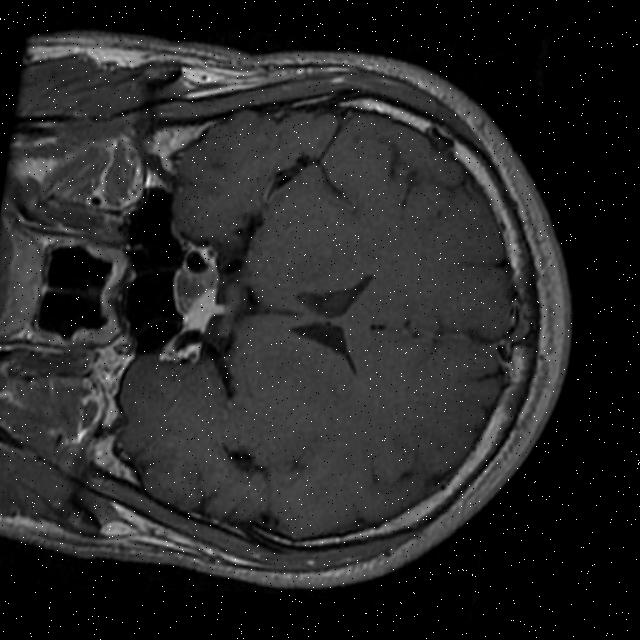Pituitary: (165, 264, 231, 337)
